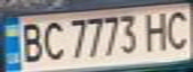3: (118, 11, 142, 55)
7: (84, 15, 106, 58), (103, 12, 124, 57), (66, 16, 87, 60)
B: (15, 19, 45, 64)
C: (160, 7, 193, 51), (39, 18, 66, 63)
H: (139, 8, 175, 53)
